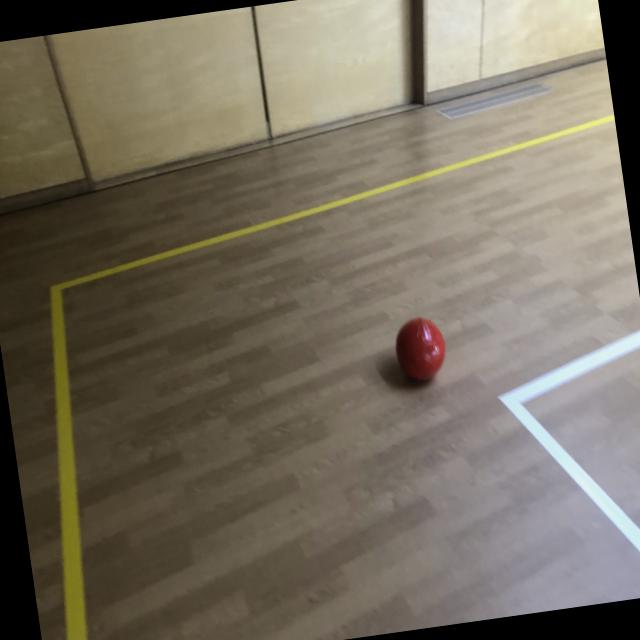red_ball: (392, 314, 450, 386)
